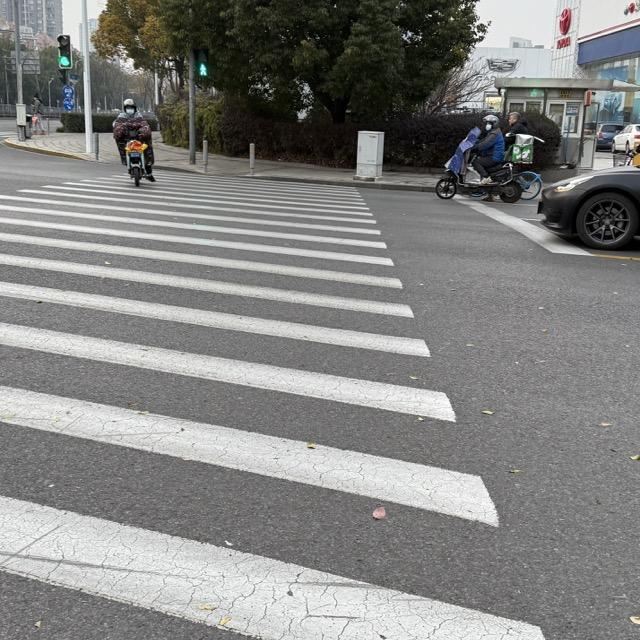curb: (220, 175, 434, 191), (0, 139, 90, 161), (159, 166, 201, 175)
